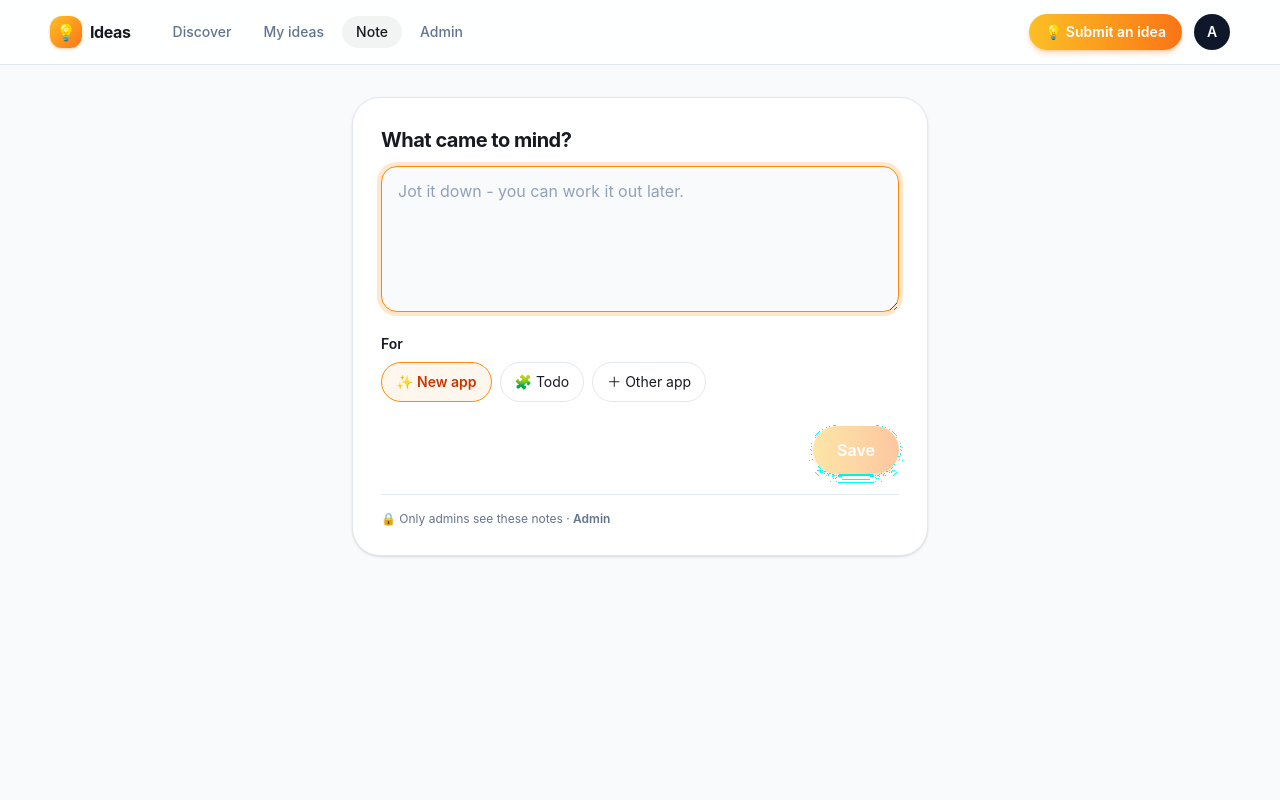
Test: ideas › saves a quick note as a private idea for an app
In the text box named "What came to mind?": point(640, 239) left=381, top=166, right=899, bottom=312, type "Recurring tasks by weekday"
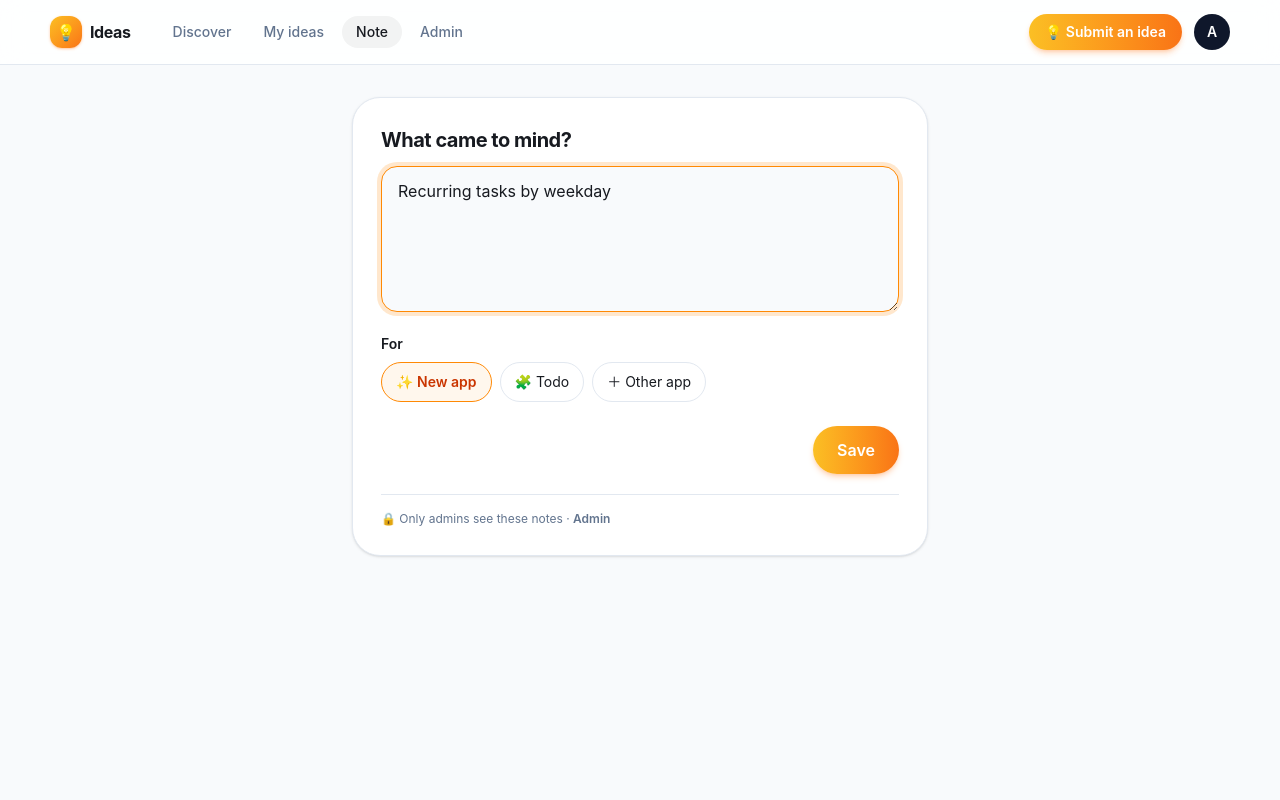
Click the button "🧩 Todo": point(542, 382) left=500, top=362, right=584, bottom=402
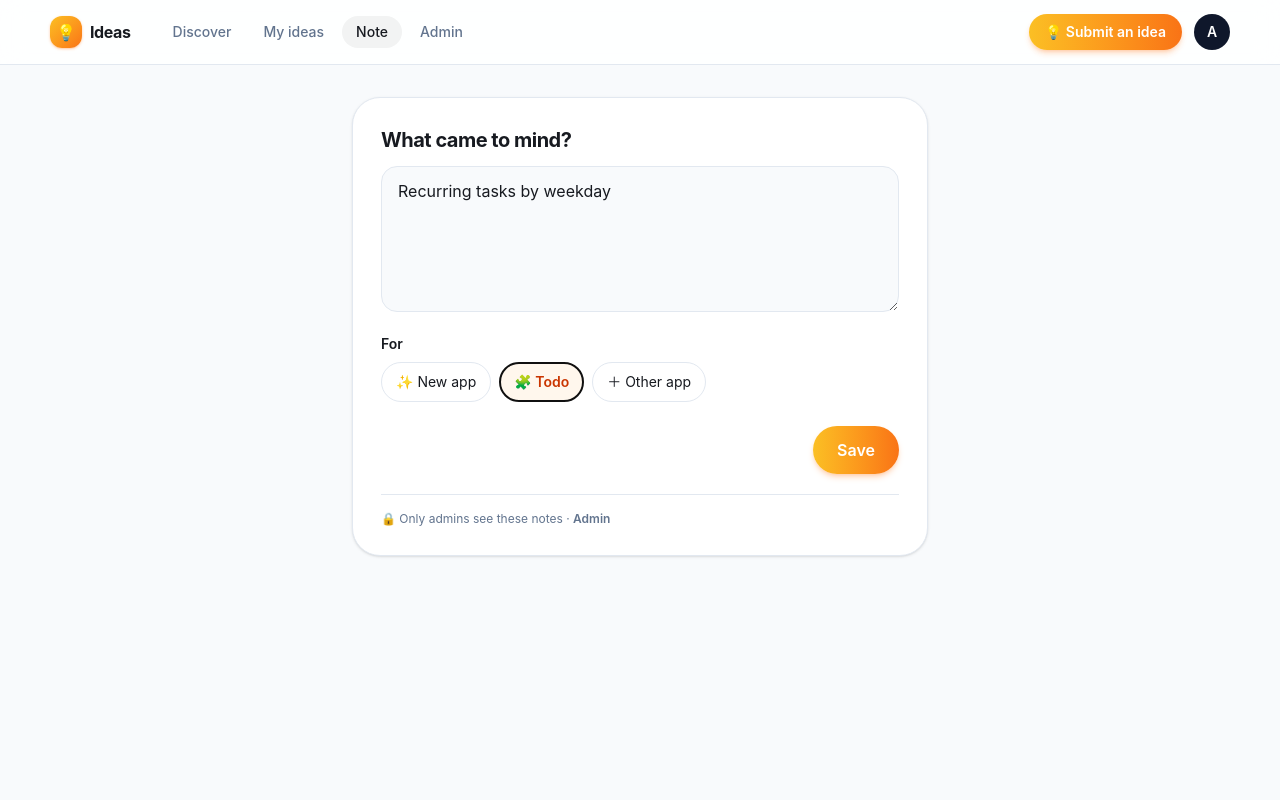
Click the button "Save": point(856, 450) left=813, top=426, right=899, bottom=474
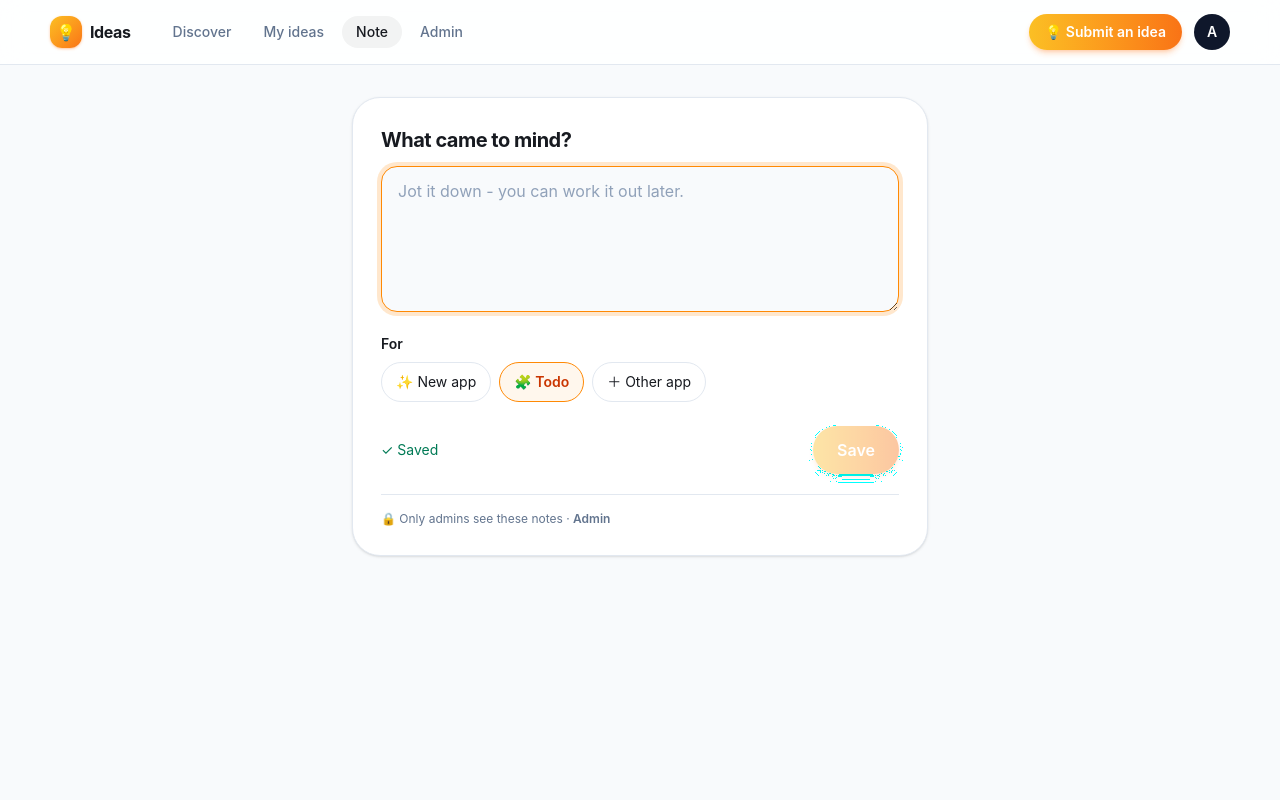
Check: the text "✓ Saved" is shown, box left=381, top=440, right=438, bottom=460
